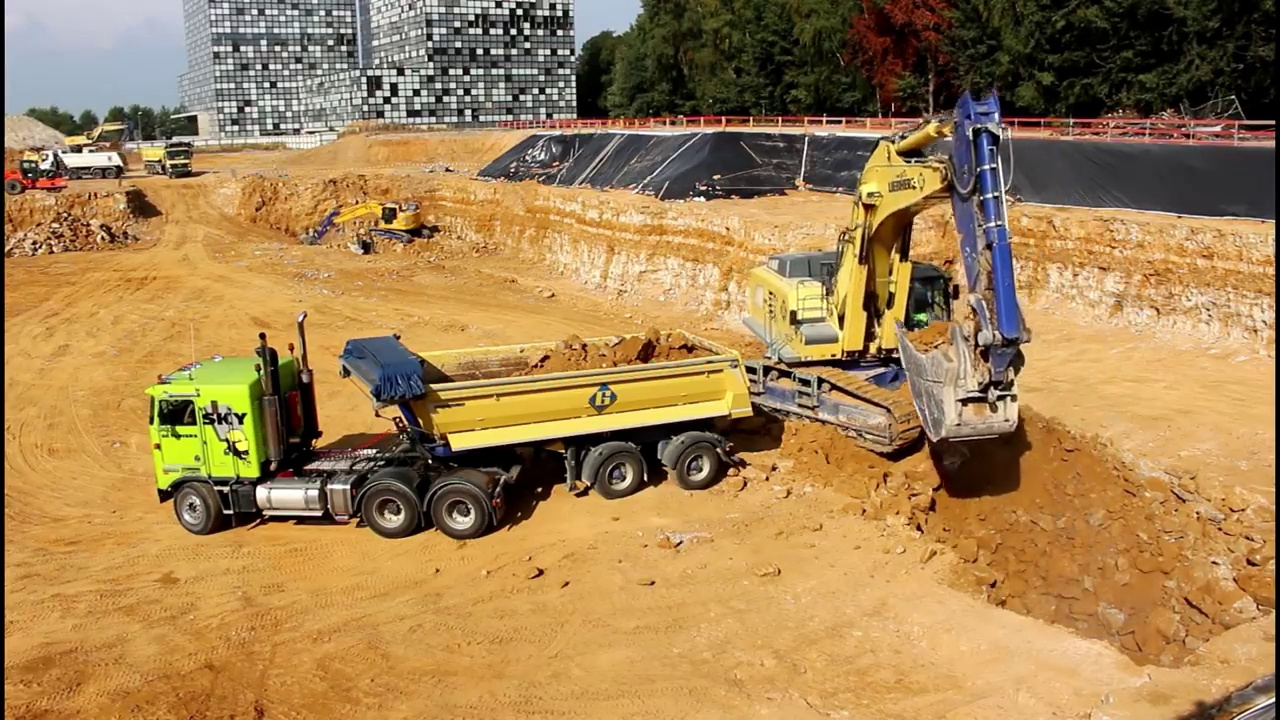compactor: (2, 159, 71, 199)
excavator: (701, 83, 1037, 461), (297, 196, 436, 254), (59, 119, 142, 158)
truck: (137, 306, 757, 545), (37, 147, 129, 179), (135, 137, 199, 181), (16, 138, 84, 172)
